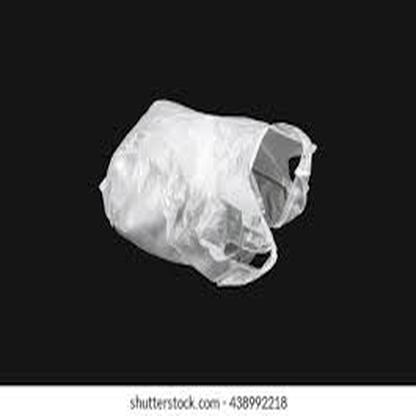plastic bag: (97, 99, 317, 287)
